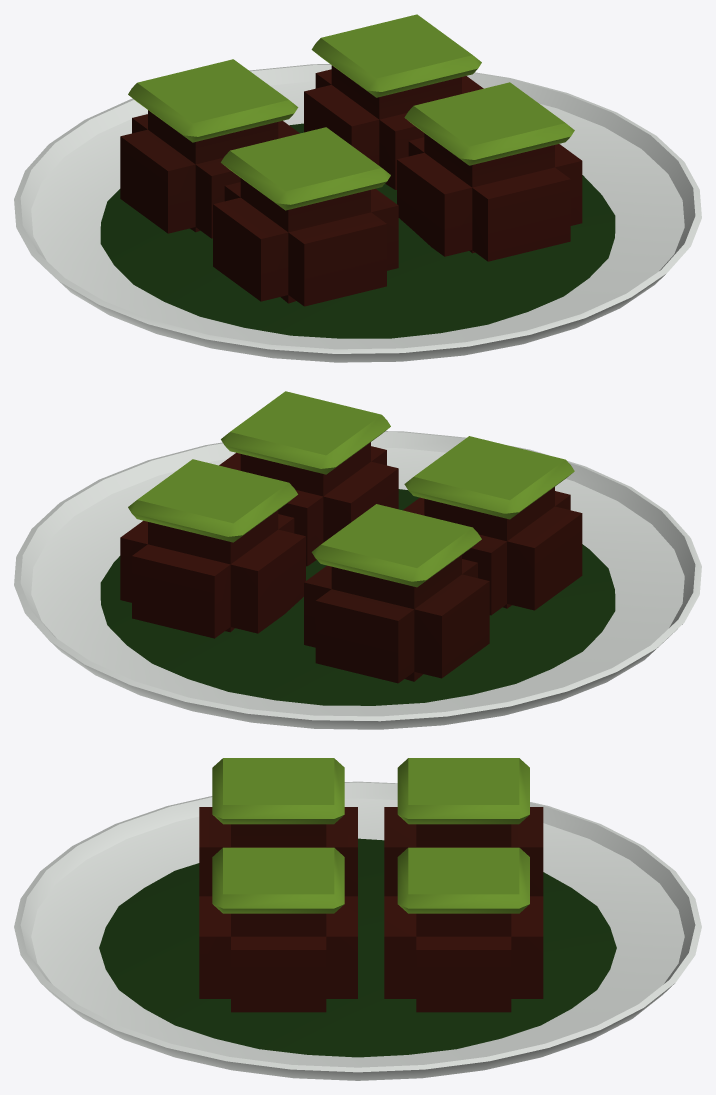
The model's file is fs-dish-dongpo-pork.glb.
The picture shows the model from 3 angles, top to bottom: view 1: azimuth 30°, elevation 25°; view 2: azimuth 150°, elevation 25°; view 3: azimuth 270°, elevation 25°; orthographic projection.
Visible parts, largest first — view 1: food__food, plate__ceramic, sauce__sauce; view 2: food__food, plate__ceramic, sauce__sauce; view 3: food__food, plate__ceramic, sauce__sauce.
Boxes of the visible parts, left/top/right/bottom form: food__food: left=100, top=65, right=615, bottom=338; plate__ceramic: left=14, top=64, right=701, bottom=362; sauce__sauce: left=128, top=14, right=574, bottom=210; food__food: left=100, top=442, right=615, bottom=705; plate__ceramic: left=14, top=431, right=701, bottom=729; sauce__sauce: left=128, top=391, right=574, bottom=587; food__food: left=99, top=807, right=616, bottom=1057; plate__ceramic: left=14, top=781, right=701, bottom=1080; sauce__sauce: left=212, top=758, right=529, bottom=913.
Size of the model in its own units: 0.26 by 0.062 by 0.26.
